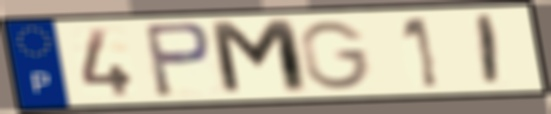1: (398, 14, 442, 90)
4: (78, 26, 139, 99)
G: (296, 19, 375, 92)
I: (476, 12, 503, 89)
M: (205, 17, 314, 99)
P: (140, 20, 216, 100)
